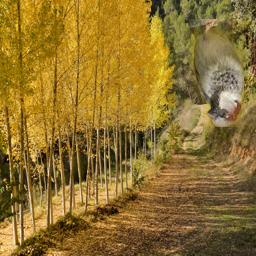Sparrow: (189, 19, 244, 127)
